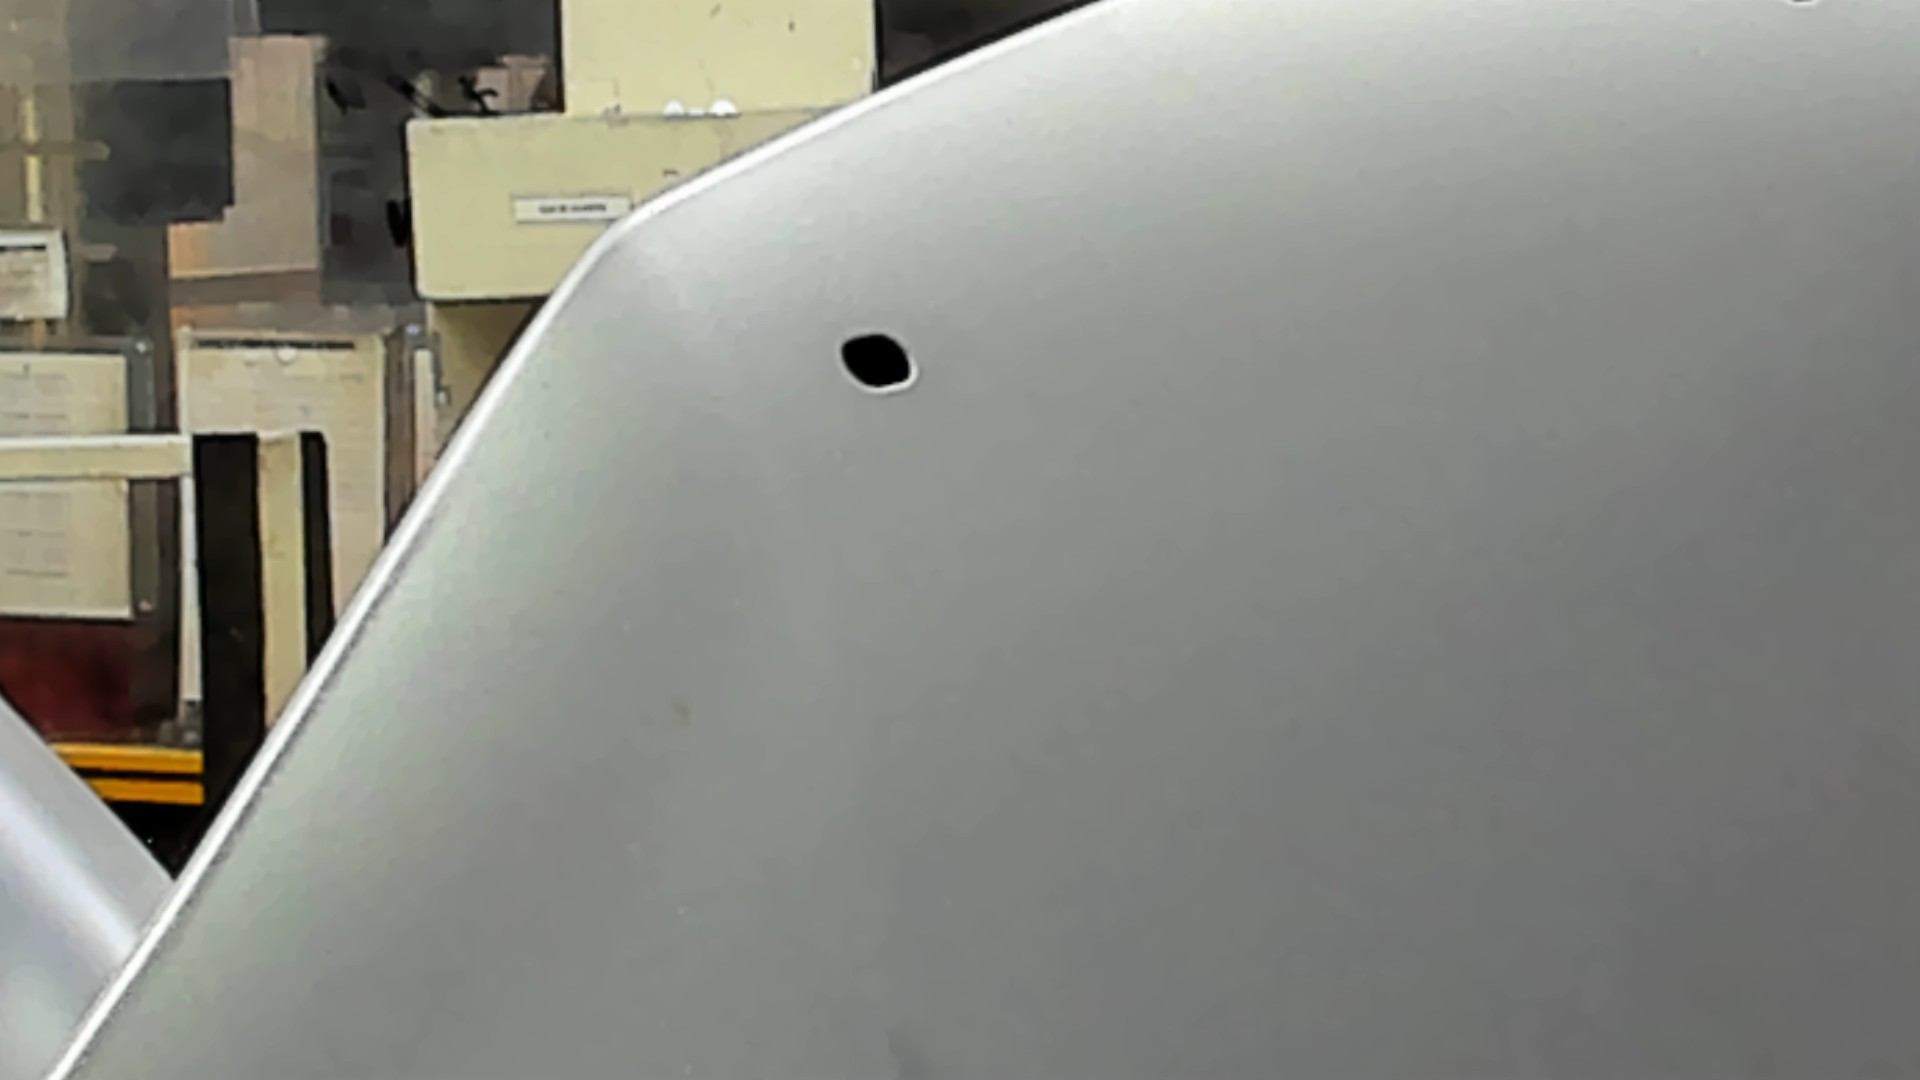amorfo: (837, 332, 920, 390), (1784, 1, 1824, 9)
